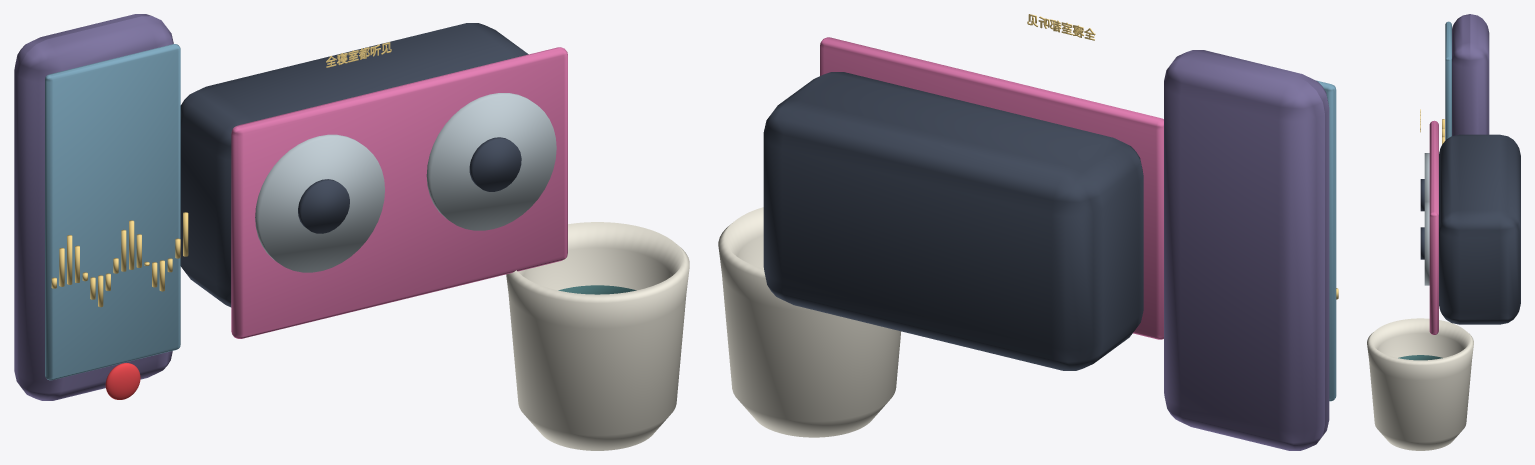
File: Q04_Embarrassing_Dormitory_Public_Play.glb
3 views of the same model, side by side, from view 1: azimuth 30°, elevation 25°; view 2: azimuth 150°, elevation 25°; view 3: azimuth 270°, elevation 25° (orthographic). The views are drawn at different scales.
Parts seen in each view (by area): view 1: Q04 soundbar colored anodized edge, Q04 inset real OLED color lit phone front, Q04 original porcelain glass water tumbler, Q04_SPEAKER_ACTOR | Acoustic soundbar black fabric grill, Q04_SPEAKER_ACTOR | Brushed aluminum phone milled frame, Q04 giant custom smartphone gold glass physical chassis, Q04_PHONE_ACTOR | Ridiculous dormitory roommate message yell, Q04 tactile protruding stop playback switch; view 2: Q04_SPEAKER_ACTOR | Acoustic soundbar black fabric grill, Q04 giant custom smartphone gold glass physical chassis, Q04 original porcelain glass water tumbler, Q04 soundbar colored anodized edge, Q04 inset real OLED color lit phone front, Q04 original school club scary loudspeaker banner; view 3: Q04_SPEAKER_ACTOR | Acoustic soundbar black fabric grill, Q04 original porcelain glass water tumbler, Q04 giant custom smartphone gold glass physical chassis, Q04 soundbar colored anodized edge, Q04 inset real OLED color lit phone front, Q04_SPEAKER_ACTOR | Brushed aluminum phone milled frame, Q04 physically visible water liquid free surface.
Boxes of the visible parts, x1,y1,x2,y2 form: Q04 soundbar colored anodized edge: (231,47,567,338); Q04 inset real OLED color lit phone front: (45,44,180,380); Q04 original porcelain glass water tumbler: (506,222,689,450); Q04_SPEAKER_ACTOR | Acoustic soundbar black fabric grill: (180,23,528,307); Q04_SPEAKER_ACTOR | Brushed aluminum phone milled frame: (255,93,556,272); Q04 giant custom smartphone gold glass physical chassis: (14,14,173,400); Q04_PHONE_ACTOR | Ridiculous dormitory roommate message yell: (51,212,188,307); Q04 tactile protruding stop playback switch: (105,363,140,399); Q04_SPEAKER_ACTOR | Acoustic soundbar black fabric grill: (763,72,1143,370); Q04 giant custom smartphone gold glass physical chassis: (1164,50,1329,450); Q04 original porcelain glass water tumbler: (718,207,901,437); Q04 soundbar colored anodized edge: (820,37,1163,339); Q04 inset real OLED color lit phone front: (1316,80,1336,401); Q04 original school club scary loudspeaker banner: (1027,14,1095,40); Q04_SPEAKER_ACTOR | Acoustic soundbar black fabric grill: (1420,134,1520,324); Q04 original porcelain glass water tumbler: (1367,318,1473,450); Q04 giant custom smartphone gold glass physical chassis: (1452,14,1489,135); Q04 soundbar colored anodized edge: (1429,120,1438,334); Q04 inset real OLED color lit phone front: (1445,21,1451,139); Q04_SPEAKER_ACTOR | Brushed aluminum phone milled frame: (1424,153,1429,285); Q04 physically visible water liquid free surface: (1398,355,1442,360).
Bounding box in the file's own units: 2.16 × 1.6 × 0.8045.
